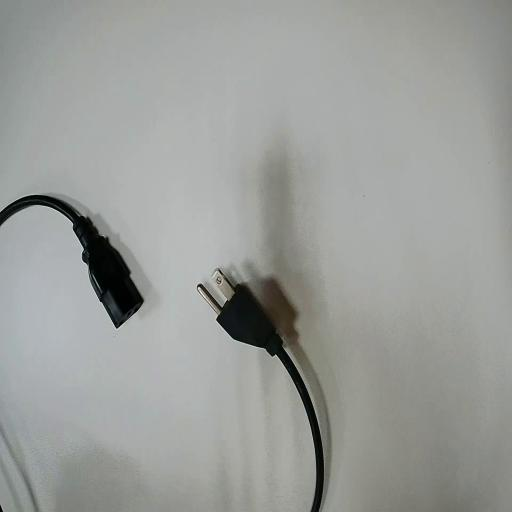wire: (201, 280, 323, 511), (0, 196, 142, 325)
